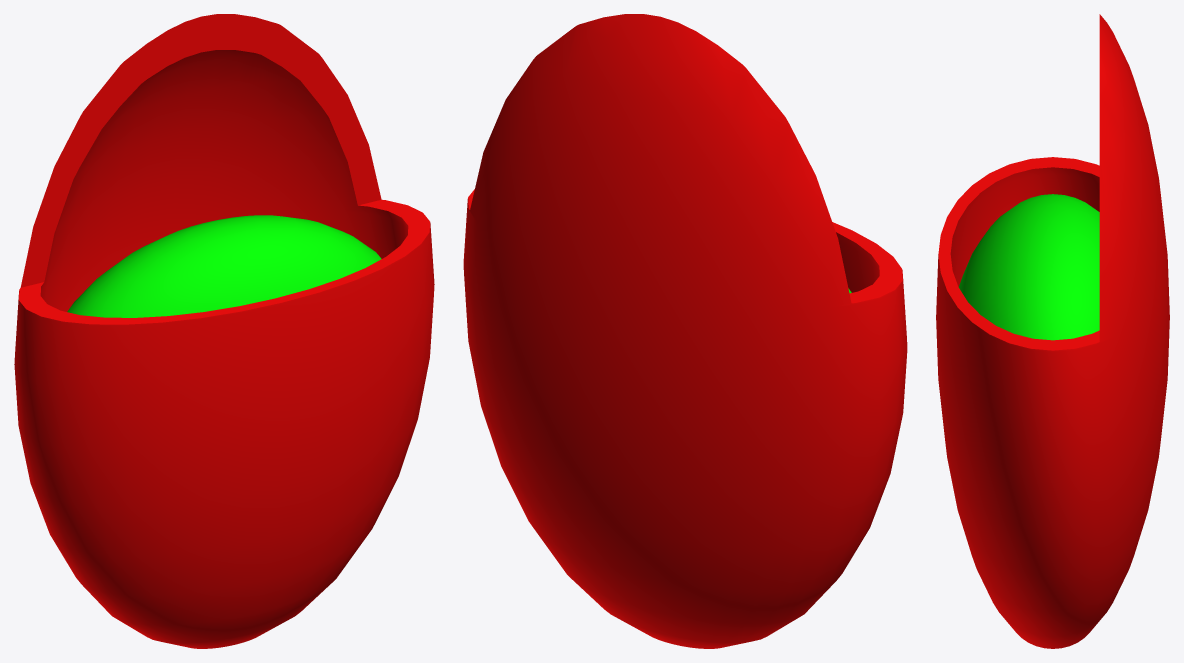
File: wall light.fbx
3 views of the same model, side by side, from view 1: azimuth 30°, elevation 25°; view 2: azimuth 150°, elevation 25°; view 3: azimuth 270°, elevation 25° (orthographic). The views are drawn at different scales.
Parts seen in each view (by area): view 1: Wall Light; view 2: Wall Light; view 3: Wall Light.
Boxes of the visible parts, x1=… form: Wall Light: x1=14, y1=14, x2=434, y2=648; Wall Light: x1=463, y1=14, x2=907, y2=648; Wall Light: x1=936, y1=14, x2=1169, y2=648.
Bounding box in the file's own units: 200 × 287 × 100.
